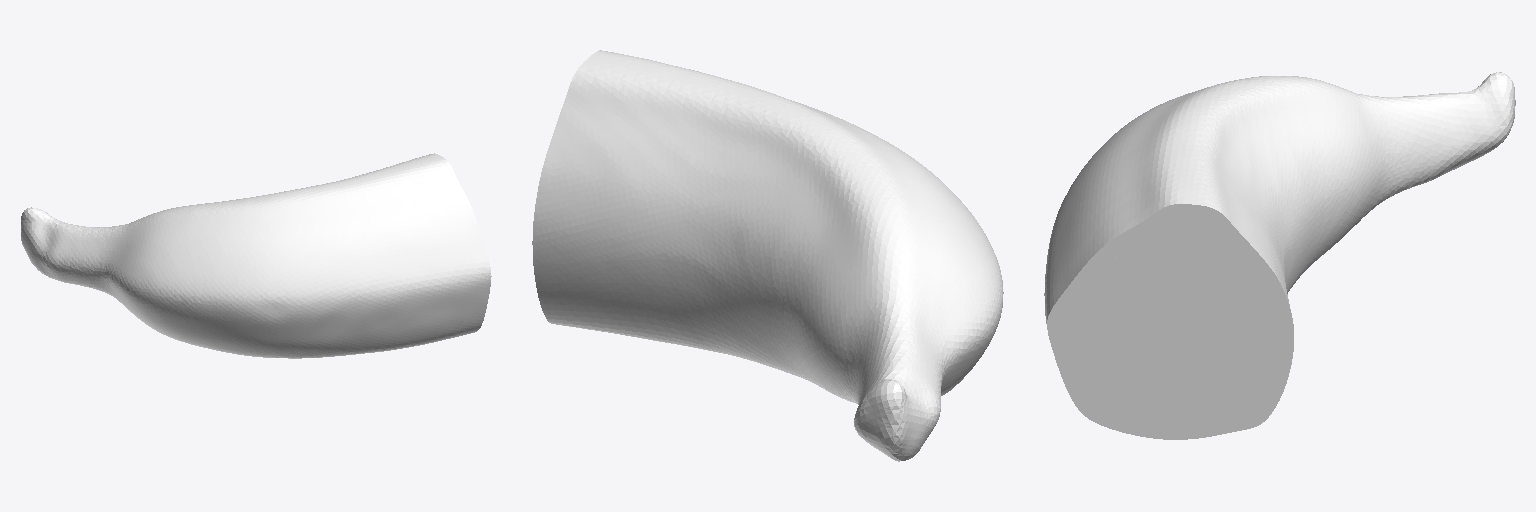
robot.urdf — cube.urdf:
<?xml version="0.0" ?>
<robot name="cube.urdf">
  <link name="baseLink">
    <contact>
      <lateral_friction value="0.3"/>
      <stiffness value="10000.0"/>
    </contact>
    <inertial>
      <origin rpy="0 0 0" xyz="0 0 0"/>
       <mass value="0.1"/>
       <inertia ixx="1" ixy="0" ixz="0" iyy="1" iyz="0" izz="1"/>
    </inertial>
    <visual>
      <origin rpy="0 0 0" xyz="0 0 0"/>
      <geometry>
            <mesh filename="banana_right.stl" scale="0.001 0.001 0.001"/>
      </geometry>
       <material name="white">
        <color rgba="1 1 1 1"/>
      </material>
    </visual>
    <collision>
      <origin rpy="0 0 0" xyz="0 0 0"/>
      <geometry>
	 	<mesh filename="banana_right.stl" scale="0.001 0.001 0.001"/>
      </geometry>
    </collision>
  </link>  
</robot>

--- Facts derived from the render (not from the file) ---
The picture shows the robot from 3 angles, left to right: view 1: azimuth 30°, elevation 25°; view 2: azimuth 150°, elevation 25°; view 3: azimuth 270°, elevation 25°; orthographic projection.
Robot: cube.urdf — 1 links, 0 joints (none); root link baseLink; default pose: every joint at zero.
Visible links, largest first — view 1: baseLink; view 2: baseLink; view 3: baseLink.
Link boxes in pixels (box(x1,y1,x2,y2)): baseLink: box(21, 153, 491, 358); baseLink: box(532, 50, 1003, 461); baseLink: box(1044, 72, 1515, 439).
Size in the robot's own frame: 0.0593 by 0.054 by 0.0299 metres.
1 mesh visuals loaded from 1 distinct referenced files (1 binary STL).